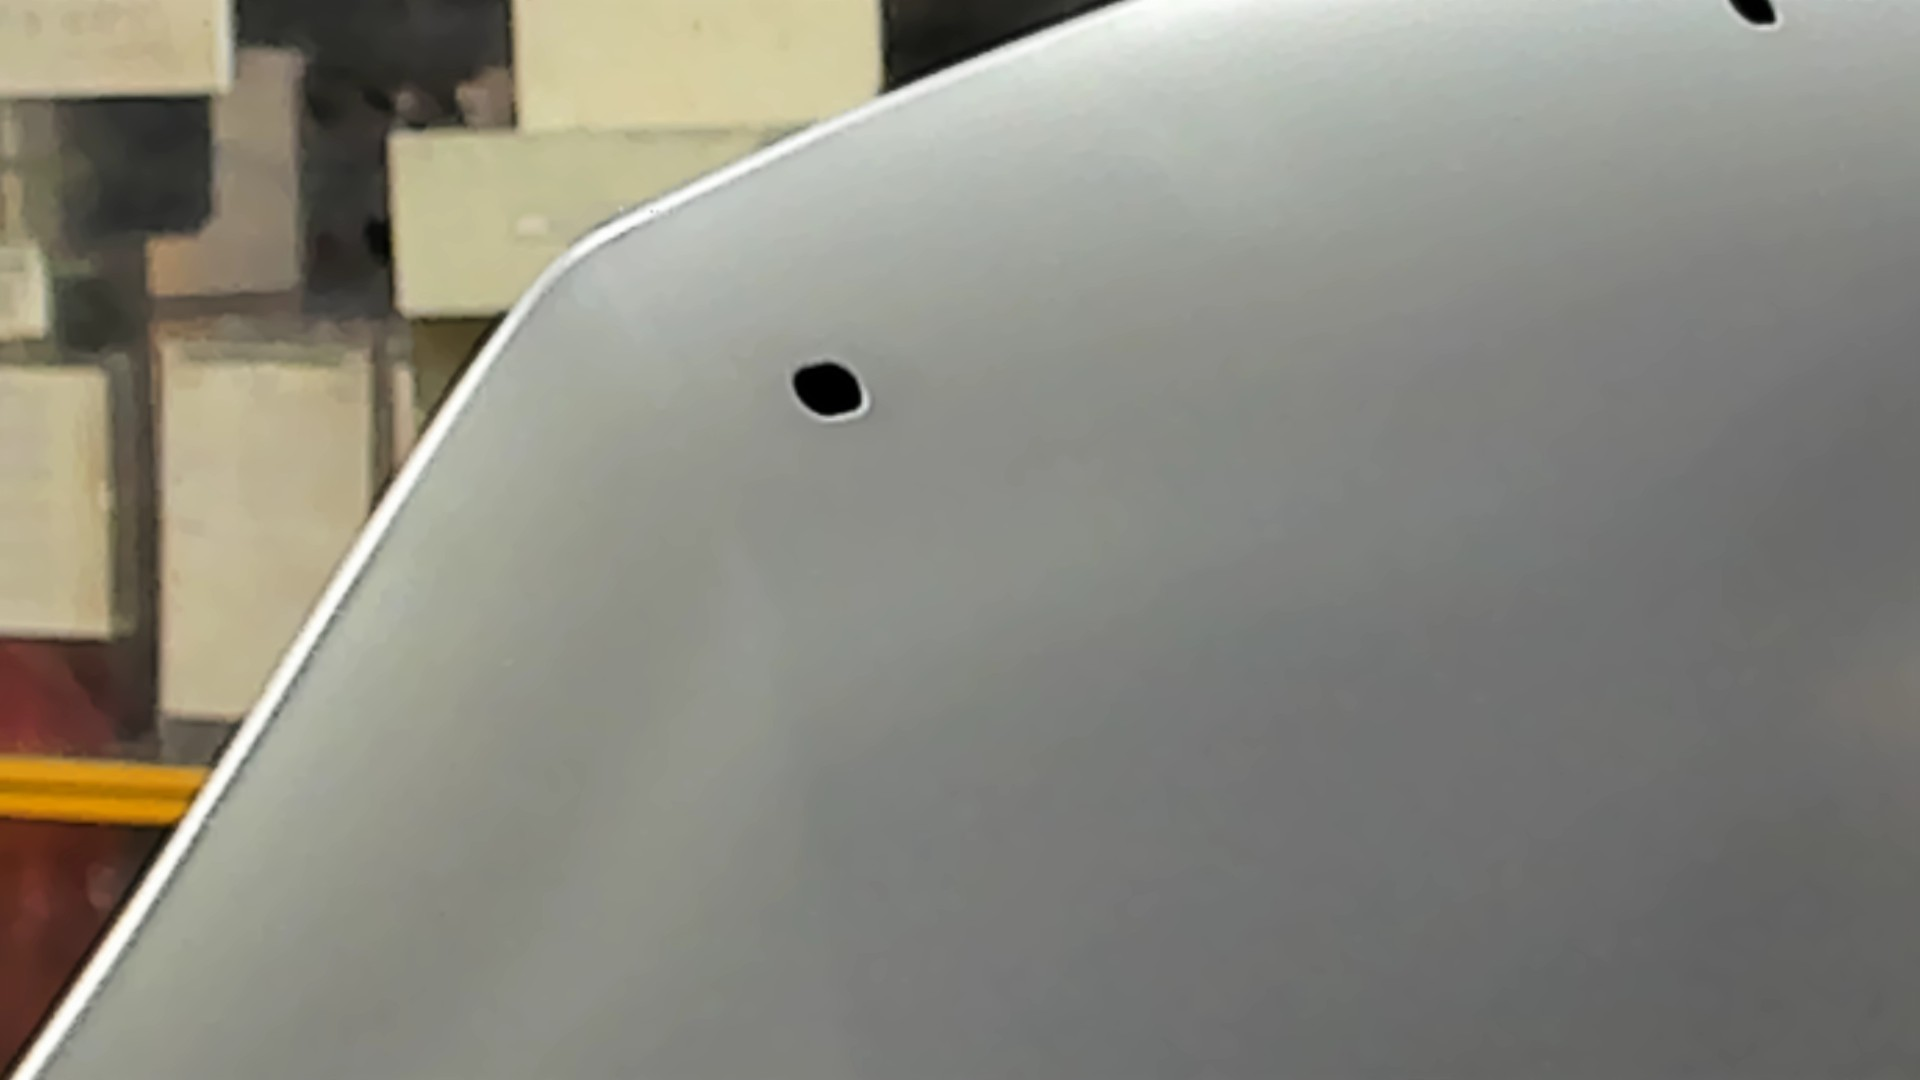amorfo: (778, 357, 880, 426), (1727, 1, 1785, 41)
